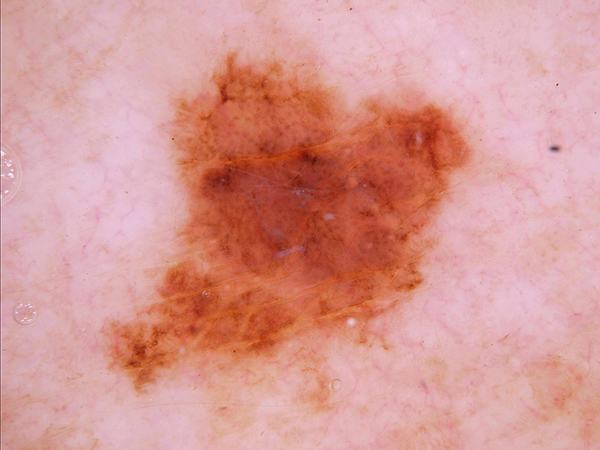Detected Lesion: (104, 45, 472, 409)
